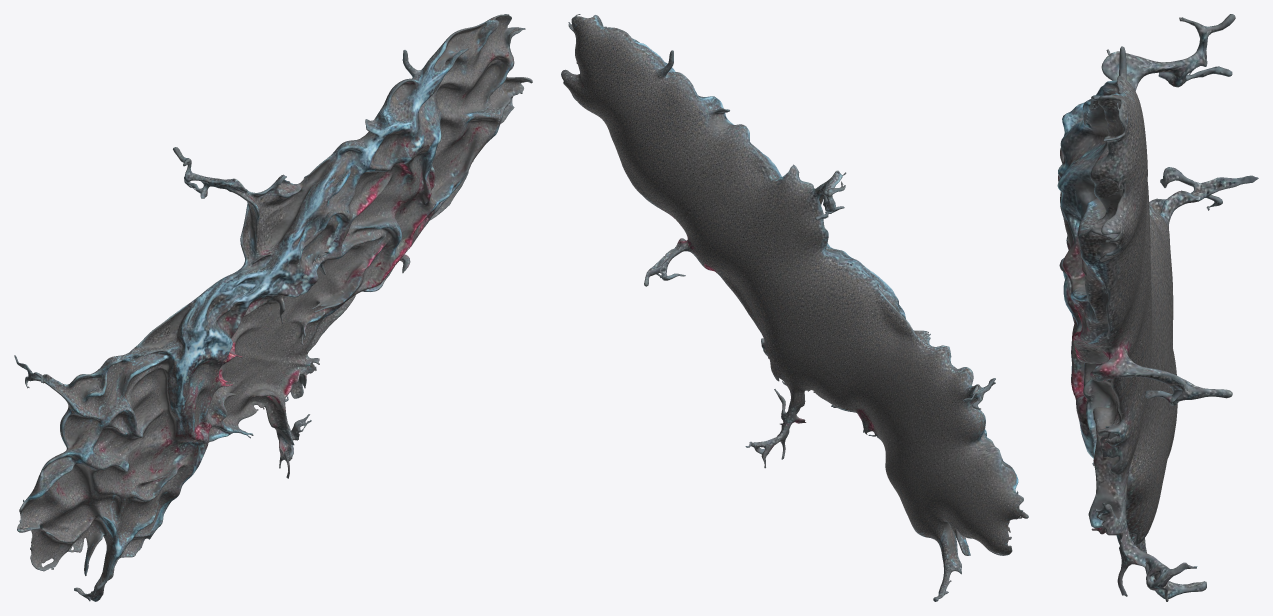
File: Filament02.glb
3 renders of one model, left to right at view 1: azimuth 30°, elevation 25°; view 2: azimuth 150°, elevation 25°; view 3: azimuth 270°, elevation 25°, orthographic. The views are drawn at different scales.
Parts seen in each view (by area): view 1: tripo_node_481e26a8-3e8e-4eb4-9aea-002a4df5106d; view 2: tripo_node_481e26a8-3e8e-4eb4-9aea-002a4df5106d; view 3: tripo_node_481e26a8-3e8e-4eb4-9aea-002a4df5106d.
Boxes of the visible parts, x1,y1,x2,y2 form: tripo_node_481e26a8-3e8e-4eb4-9aea-002a4df5106d: [14, 14, 532, 601]; tripo_node_481e26a8-3e8e-4eb4-9aea-002a4df5106d: [561, 14, 1028, 601]; tripo_node_481e26a8-3e8e-4eb4-9aea-002a4df5106d: [1057, 14, 1258, 601].
Size of the model in its own units: 1 by 0.9554 by 0.2167.
1 material, 1 textured.
